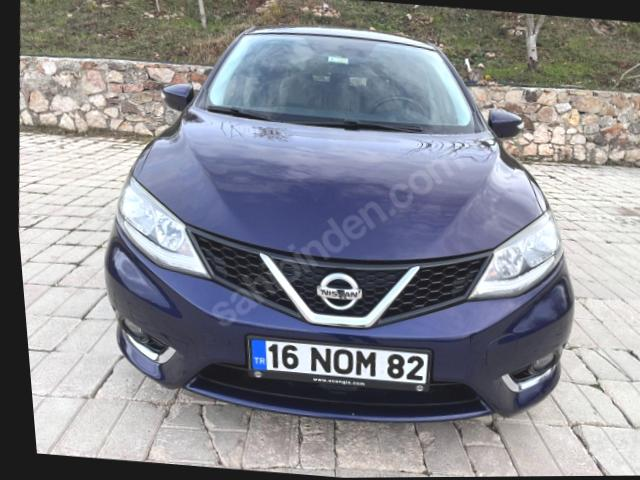plaka: (250, 339, 430, 384)
